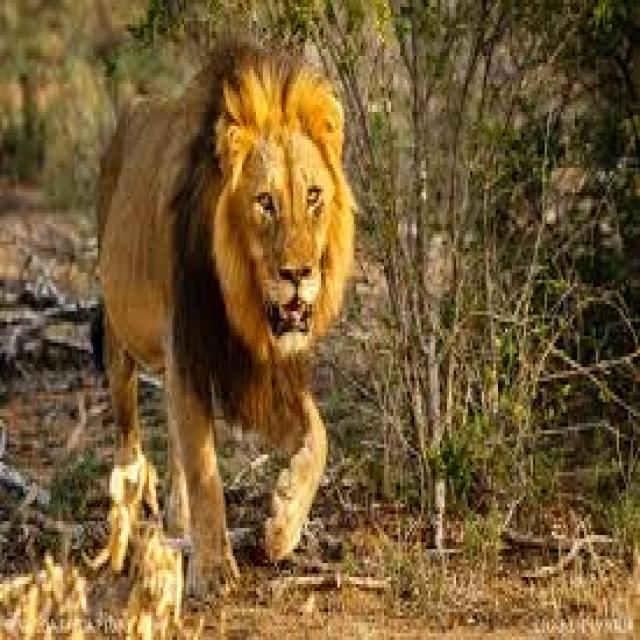Lion: (82, 38, 351, 608)
